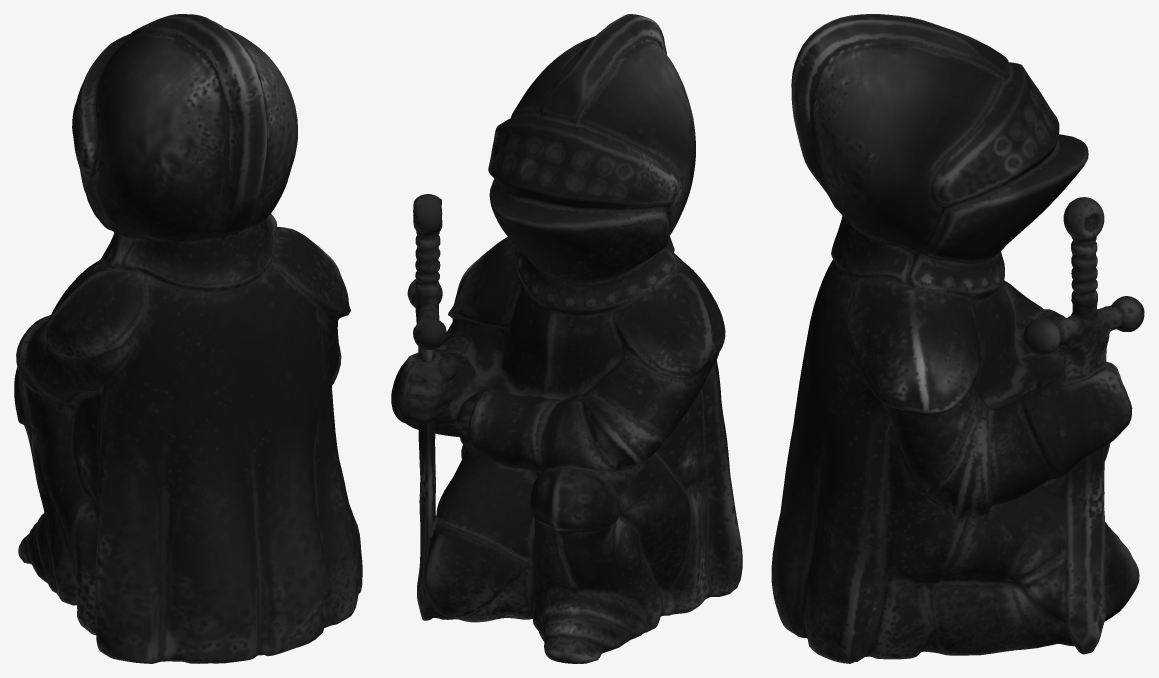
Rendered from NegroPeon.glb.
The picture shows the model from 3 angles, left to right: view 1: azimuth 30°, elevation 25°; view 2: azimuth 150°, elevation 25°; view 3: azimuth 270°, elevation 25°; orthographic projection. The views are drawn at different scales.
Parts seen in each view (by area): view 1: 12941_Stone_Chess_Rook_Side_A_V2_l1.001; view 2: 12941_Stone_Chess_Rook_Side_A_V2_l1.001; view 3: 12941_Stone_Chess_Rook_Side_A_V2_l1.001.
Boxes of the visible parts, bbox=[...] form: 12941_Stone_Chess_Rook_Side_A_V2_l1.001: bbox=[14, 14, 362, 663]; 12941_Stone_Chess_Rook_Side_A_V2_l1.001: bbox=[391, 14, 742, 663]; 12941_Stone_Chess_Rook_Side_A_V2_l1.001: bbox=[771, 14, 1144, 663].
Size of the model in its own units: 3.76 by 7.12 by 4.07.
1 material, 1 textured.
